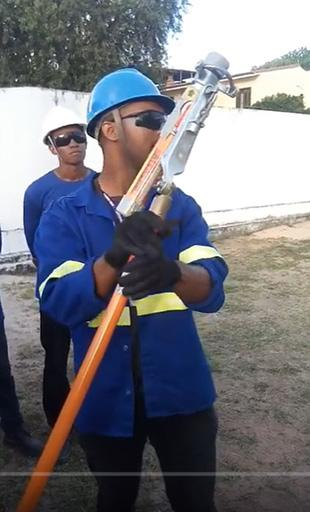Vara_Manobra: (14, 187, 170, 512)
